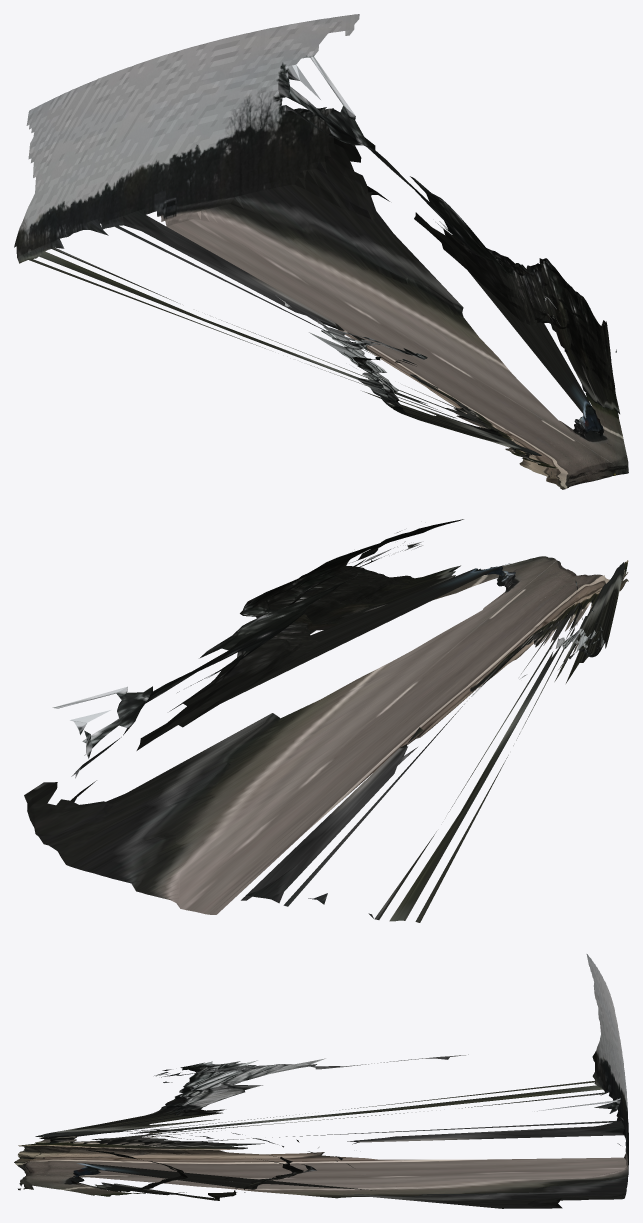
3 renders of one model, top to bottom at view 1: azimuth 30°, elevation 25°; view 2: azimuth 150°, elevation 25°; view 3: azimuth 270°, elevation 25°, orthographic. The views are drawn at different scales.
Visible parts, largest first — view 1: defaultobject; view 2: defaultobject; view 3: defaultobject.
Part boxes in pixels (x1,y1,x2,y2): defaultobject: [14, 14, 628, 489]; defaultobject: [24, 519, 628, 922]; defaultobject: [14, 954, 628, 1208].
Bounding box in the file's own units: 24.2 × 11.72 × 44.7.
1 material, 1 textured.
